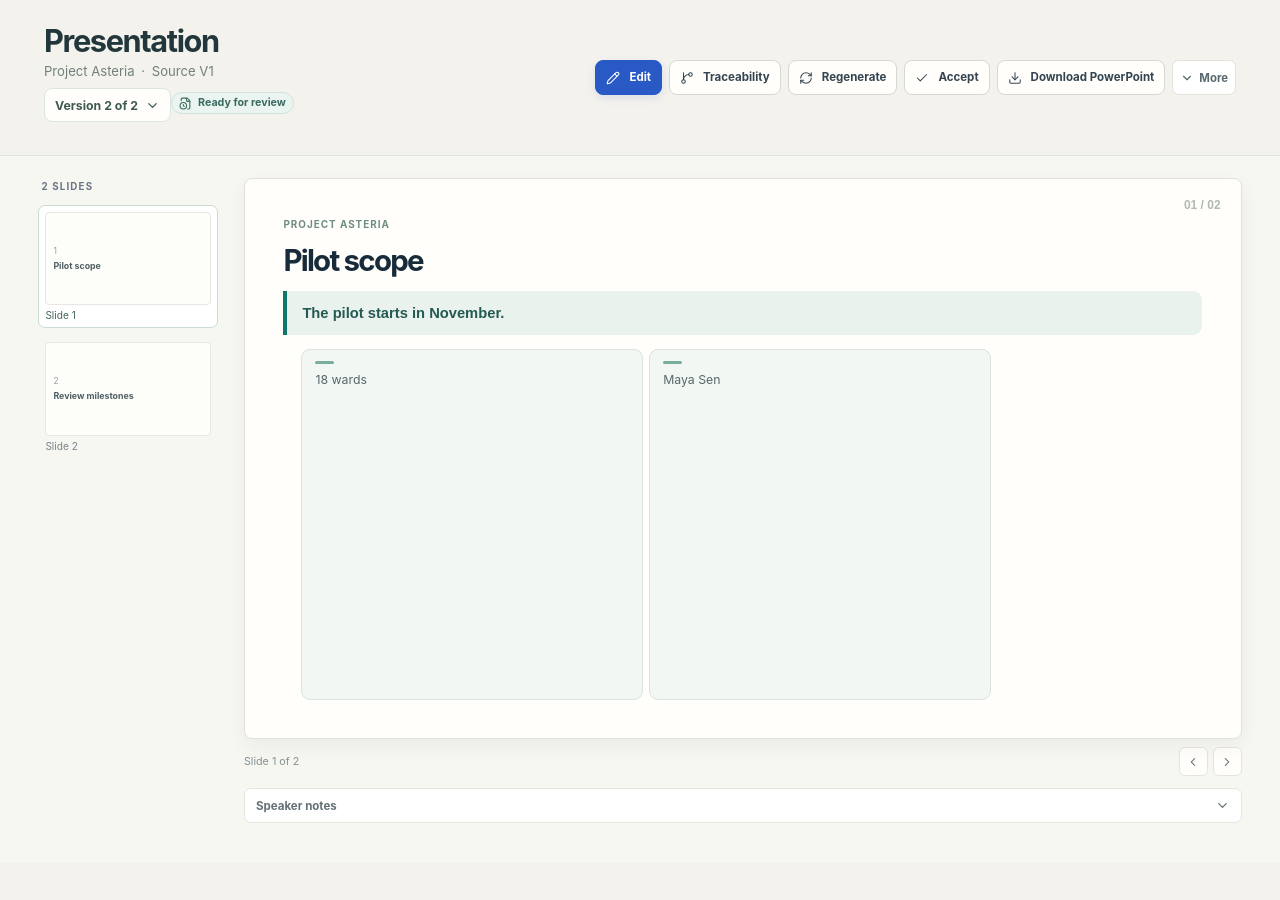
Test: presentation artifact view and editor › keeps primary actions visible and secondary actions available in More
Expected: the button "Edit" is shown, top-left (595, 60), bottom-right (662, 95)
Expected: the button "Traceability" is shown, top-left (669, 60), bottom-right (781, 95)
Click the button with aria-label "More artifact actions".
click(1204, 78)  # box top-left (1172, 60), bottom-right (1236, 95)
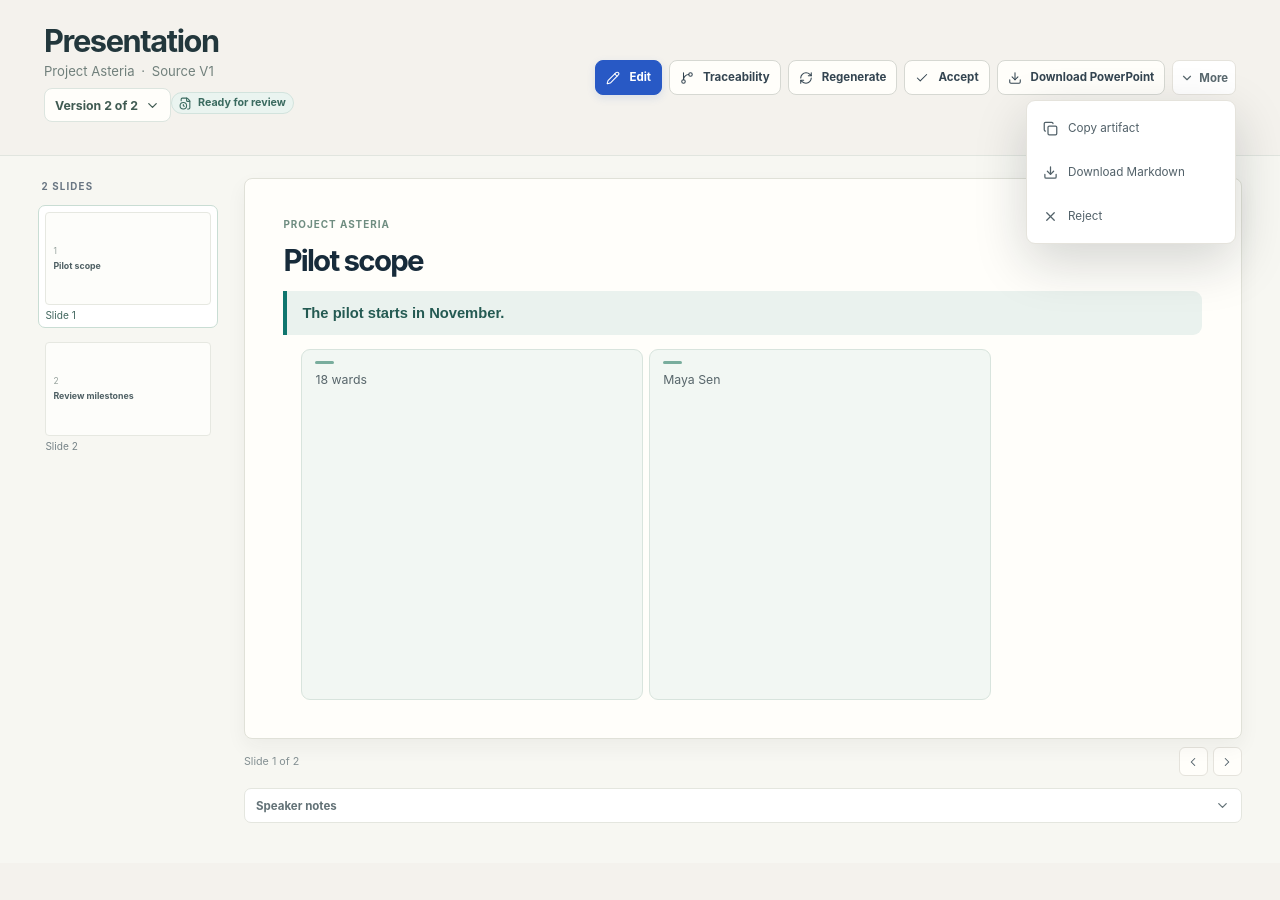
Expected: the button "Copy artifact" is shown, top-left (1033, 107), bottom-right (1229, 149)
Expected: the button "Download Markdown" is shown, top-left (1033, 151), bottom-right (1229, 193)
